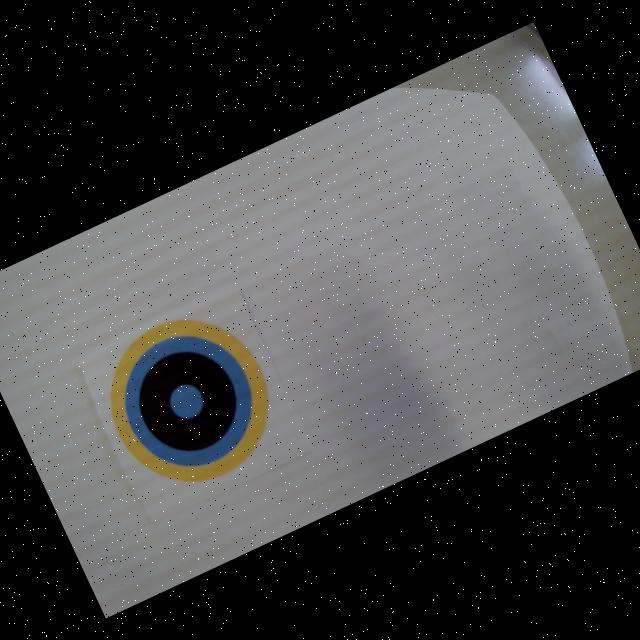COGNITIVE: (84, 294, 296, 508)
